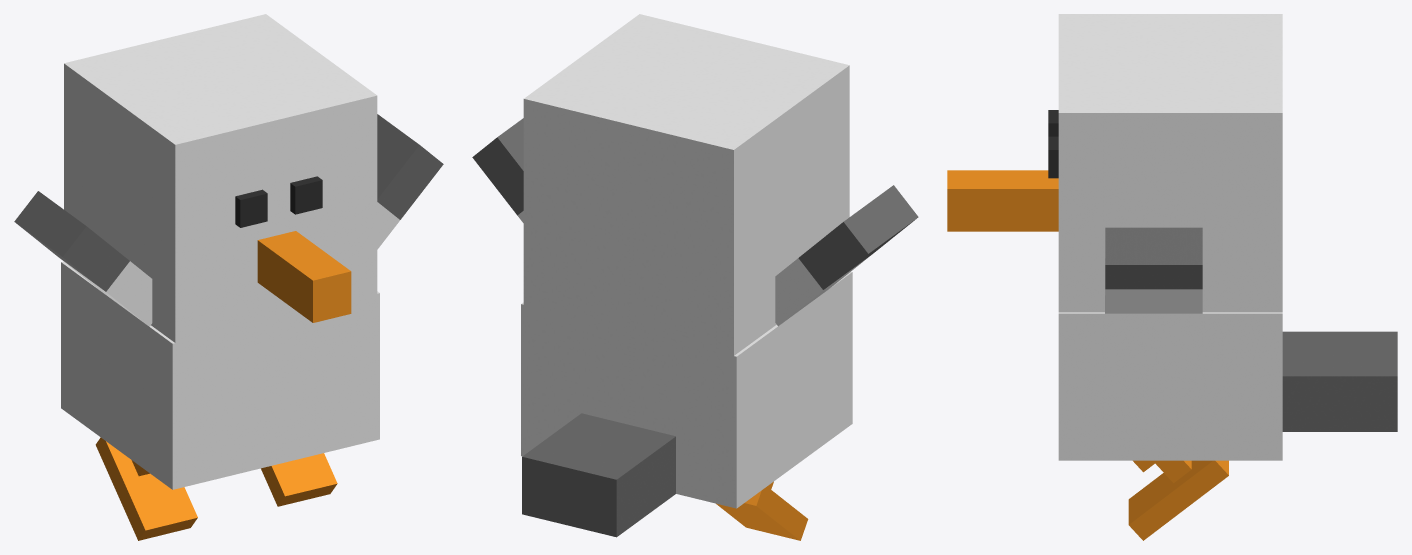
3 views of the same model, side by side, from view 1: azimuth 30°, elevation 25°; view 2: azimuth 150°, elevation 25°; view 3: azimuth 270°, elevation 25° (orthographic). The views are drawn at different scales.
Parts seen in each view (by area): view 1: Ch_17_Head, Ch_17, Ch_17_Wing_L, Ch_17_Leg_L, Ch_17_Wing_R, Ch_17_Leg_R, Ch_17_Eye_01; view 2: Ch_17_Head, Ch_17, Ch_17_Wing_L, Ch_17_Wing_R, Ch_17_Leg_L; view 3: Ch_17_Head, Ch_17, Ch_17_Wing_R, Ch_17_Leg_R, Ch_17_Eye_01.
Part boxes in pixels (left/top/right/bottom): Ch_17_Head: left=64, top=14, right=377, bottom=342; Ch_17: left=61, top=261, right=379, bottom=489; Ch_17_Wing_L: left=14, top=191, right=152, bottom=326; Ch_17_Leg_L: left=95, top=437, right=197, bottom=540; Ch_17_Wing_R: left=377, top=114, right=443, bottom=249; Ch_17_Leg_R: left=261, top=453, right=337, bottom=506; Ch_17_Eye_01: left=235, top=176, right=322, bottom=227; Ch_17_Head: left=523, top=14, right=849, bottom=355; Ch_17: left=521, top=271, right=852, bottom=537; Ch_17_Wing_L: left=775, top=185, right=918, bottom=326; Ch_17_Wing_R: left=472, top=118, right=523, bottom=222; Ch_17_Leg_L: left=716, top=481, right=808, bottom=540; Ch_17_Head: left=947, top=14, right=1282, bottom=312; Ch_17: left=1058, top=312, right=1397, bottom=460; Ch_17_Wing_R: left=1105, top=227, right=1202, bottom=313; Ch_17_Leg_R: left=1128, top=460, right=1228, bottom=540; Ch_17_Eye_01: left=1048, top=110, right=1058, bottom=178.
Size of the model in its own units: 10.39 by 11.16 by 10.58.
